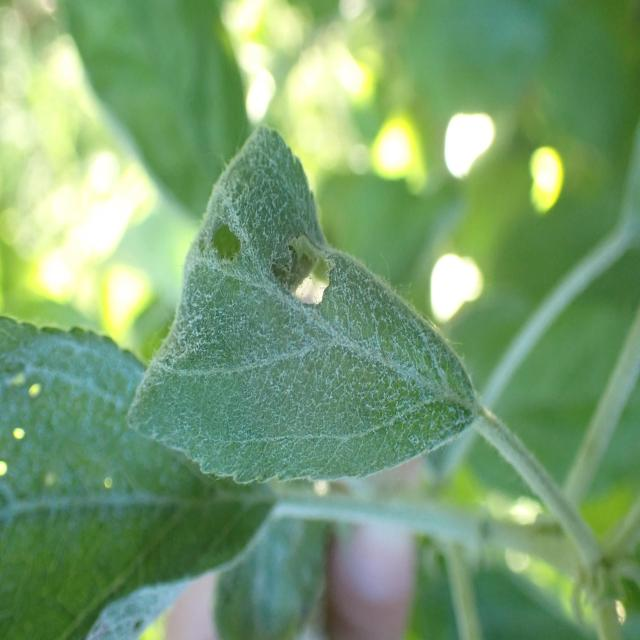Powdery_mildew: (133, 102, 492, 508)
